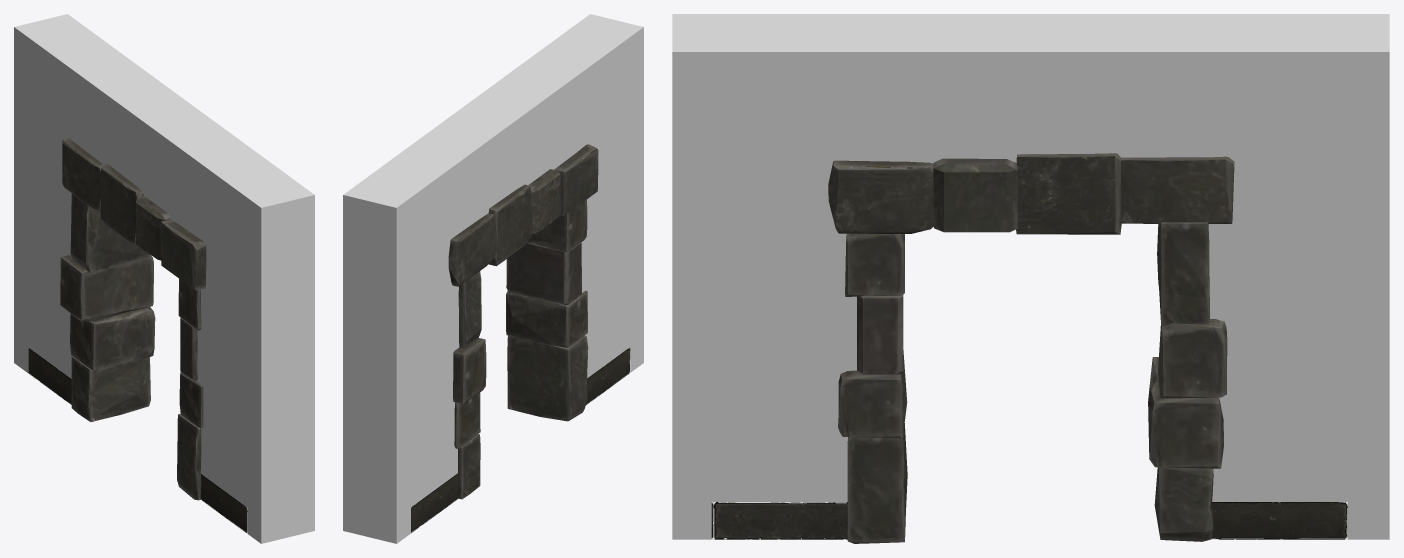
3 renders of one model, left to right at view 1: azimuth 30°, elevation 25°; view 2: azimuth 150°, elevation 25°; view 3: azimuth 270°, elevation 25°, orthographic. The views are drawn at different scales.
Parts seen in each view (by area): view 1: SM_Dowdun_Doorway_8x6_01_LOD0; view 2: SM_Dowdun_Doorway_8x6_01_LOD0; view 3: SM_Dowdun_Doorway_8x6_01_LOD0.
Part boxes in pixels (x1,y1,x2,y2): SM_Dowdun_Doorway_8x6_01_LOD0: [14, 14, 314, 543]; SM_Dowdun_Doorway_8x6_01_LOD0: [343, 14, 643, 543]; SM_Dowdun_Doorway_8x6_01_LOD0: [672, 14, 1389, 543].
Size of the model in its own units: 1.47 by 6.04 by 8.
Materials: 3 (2 with a texture image).
